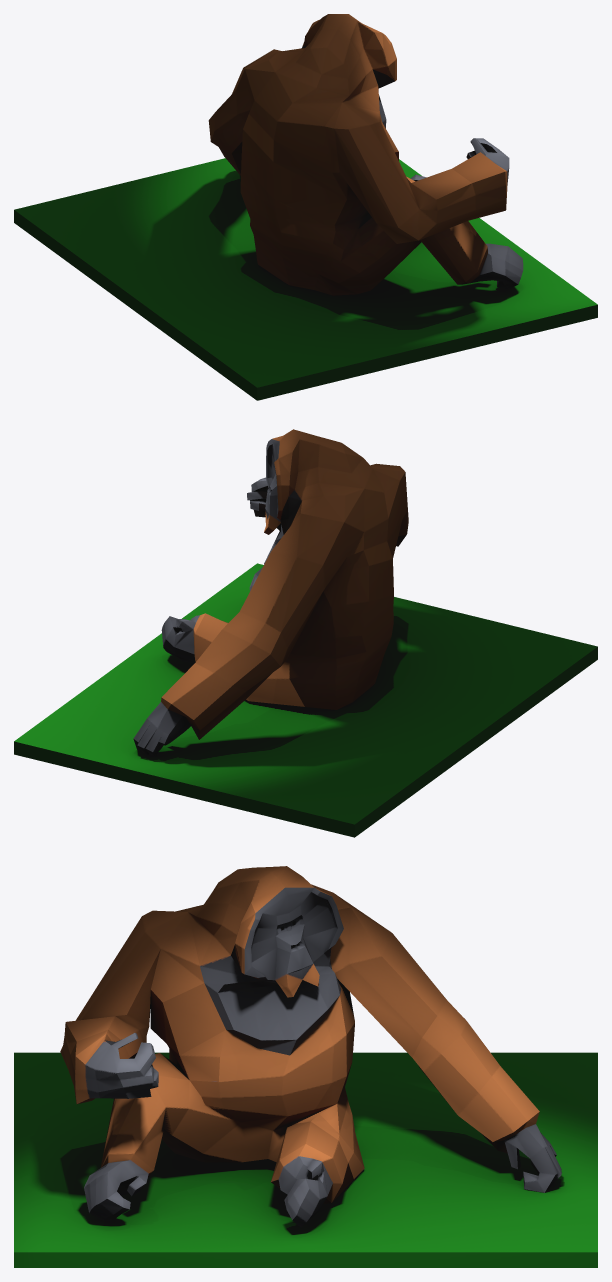
The model's file is orangutan.glb.
3 views of the same model, one above another, from view 1: azimuth 30°, elevation 25°; view 2: azimuth 150°, elevation 25°; view 3: azimuth 270°, elevation 25° (orthographic). The views are drawn at different scales.
Size of the model in its own units: 1.29 by 0.9394 by 1.6.
Materials: 1 (1 with a texture image).
